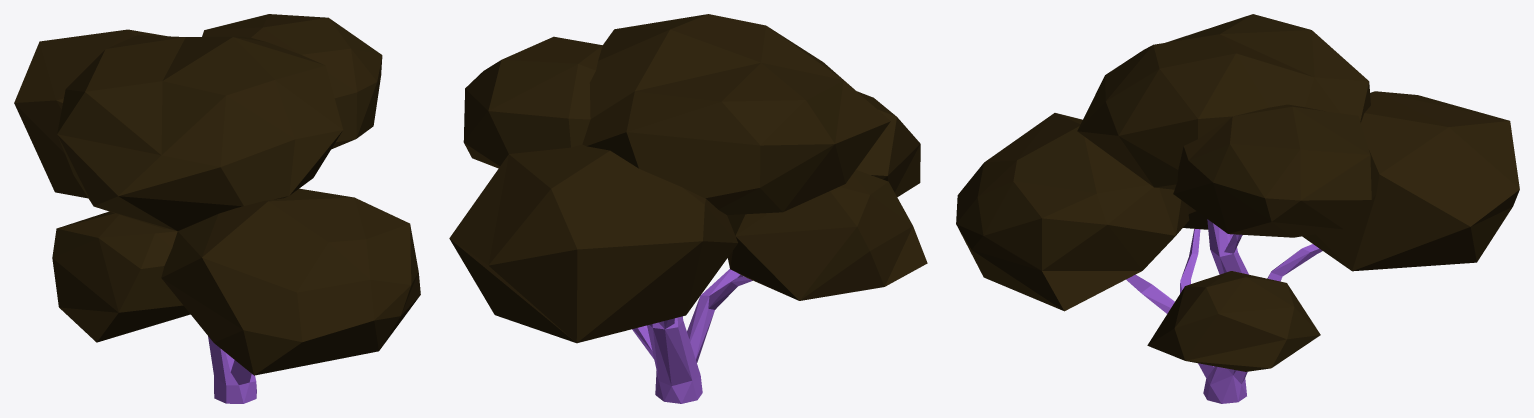
File: bush04.fbx
3 views of the same model, side by side, from view 1: azimuth 30°, elevation 25°; view 2: azimuth 150°, elevation 25°; view 3: azimuth 270°, elevation 25° (orthographic). The views are drawn at different scales.
Parts seen in each view (by area): view 1: Cylinder.001; view 2: Cylinder.001; view 3: Cylinder.001.
Boxes of the visible parts, x1=… form: Cylinder.001: x1=14, y1=14, x2=420, y2=403; Cylinder.001: x1=449, y1=14, x2=927, y2=403; Cylinder.001: x1=956, y1=14, x2=1519, y2=403.
Size of the model in its own units: 0.9197 by 0.8663 by 1.29.
